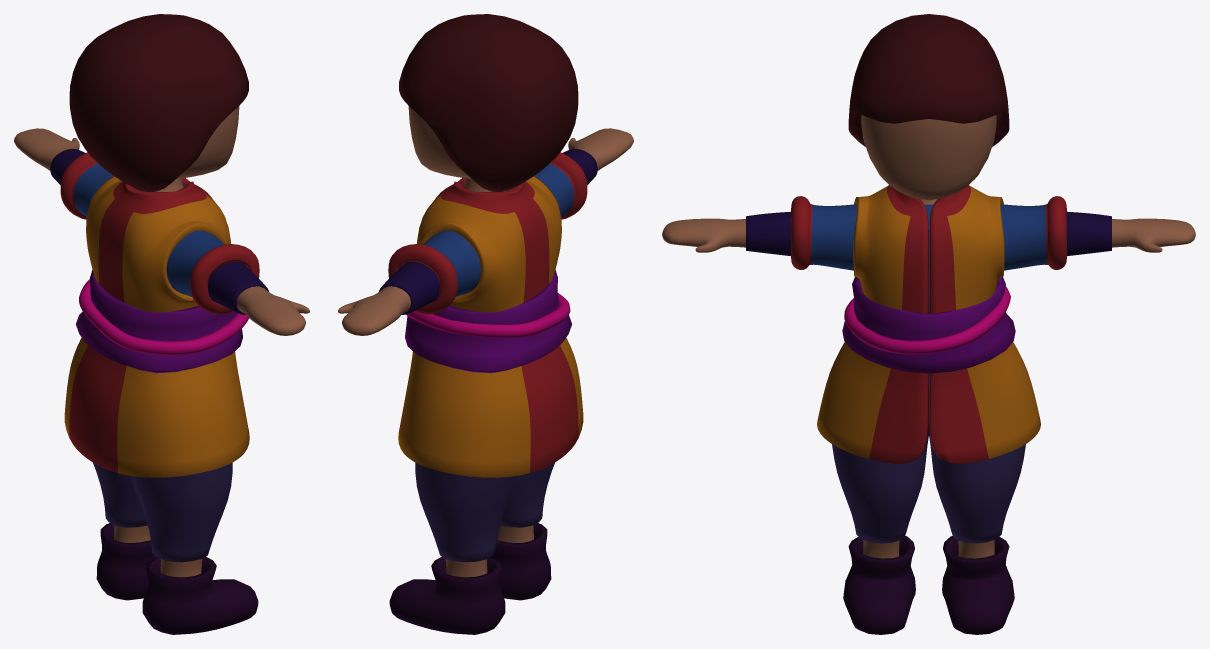
File: Charakter_02.fbx
3 renders of one model, left to right at view 1: azimuth 30°, elevation 25°; view 2: azimuth 150°, elevation 25°; view 3: azimuth 270°, elevation 25°, orthographic.
Visible parts, largest first — view 1: Char_2; view 2: Char_2; view 3: Char_2.
Boxes of the visible parts, x1,y1,x2,y2 form: Char_2: (14,14,309,634); Char_2: (338,14,633,634); Char_2: (662,14,1195,634).
Size of the model in its own units: 53.83 by 190 by 158.
